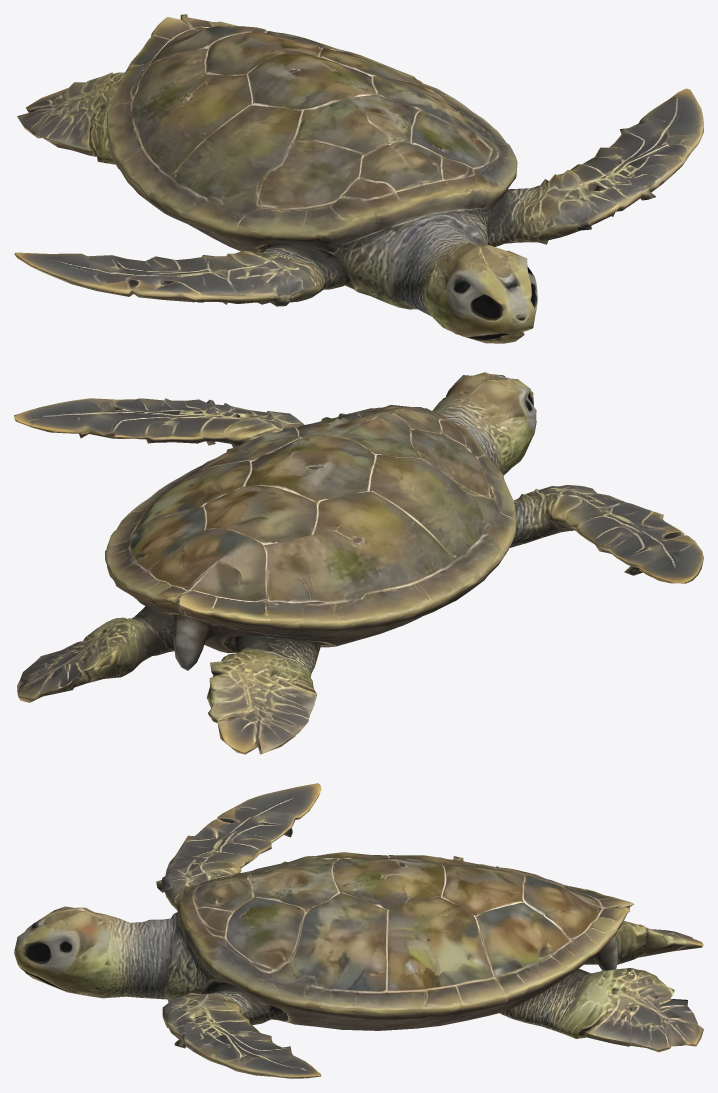
File: turtle.glb
3 renders of one model, top to bottom at view 1: azimuth 30°, elevation 25°; view 2: azimuth 150°, elevation 25°; view 3: azimuth 270°, elevation 25°, orthographic. The views are drawn at different scales.
Visible parts, largest first — view 1: tripo_node_96ac5578-f397-4826-bf58-119f34008f3e; view 2: tripo_node_96ac5578-f397-4826-bf58-119f34008f3e; view 3: tripo_node_96ac5578-f397-4826-bf58-119f34008f3e.
Boxes of the visible parts, x1,y1,x2,y2 form: tripo_node_96ac5578-f397-4826-bf58-119f34008f3e: [14, 14, 703, 343]; tripo_node_96ac5578-f397-4826-bf58-119f34008f3e: [14, 372, 703, 754]; tripo_node_96ac5578-f397-4826-bf58-119f34008f3e: [14, 783, 703, 1078].
Bounding box in the file's own units: 3.01 × 0.6496 × 3.
Materials: 1 (1 with a texture image).
